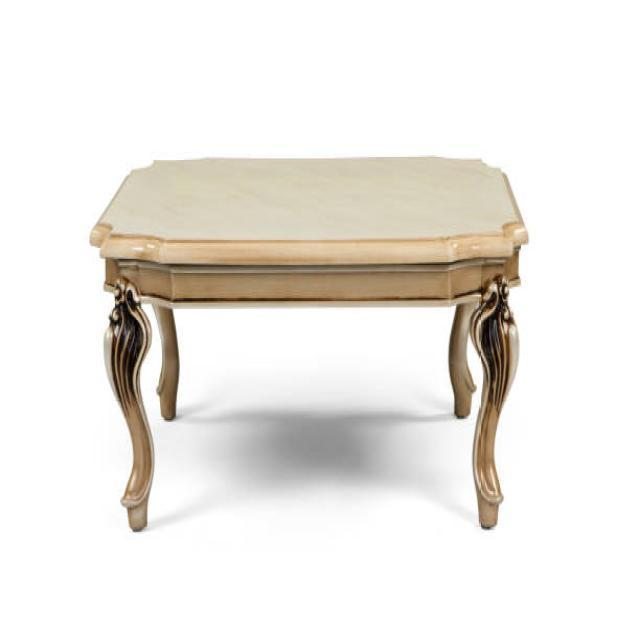table: (89, 154, 528, 534)
